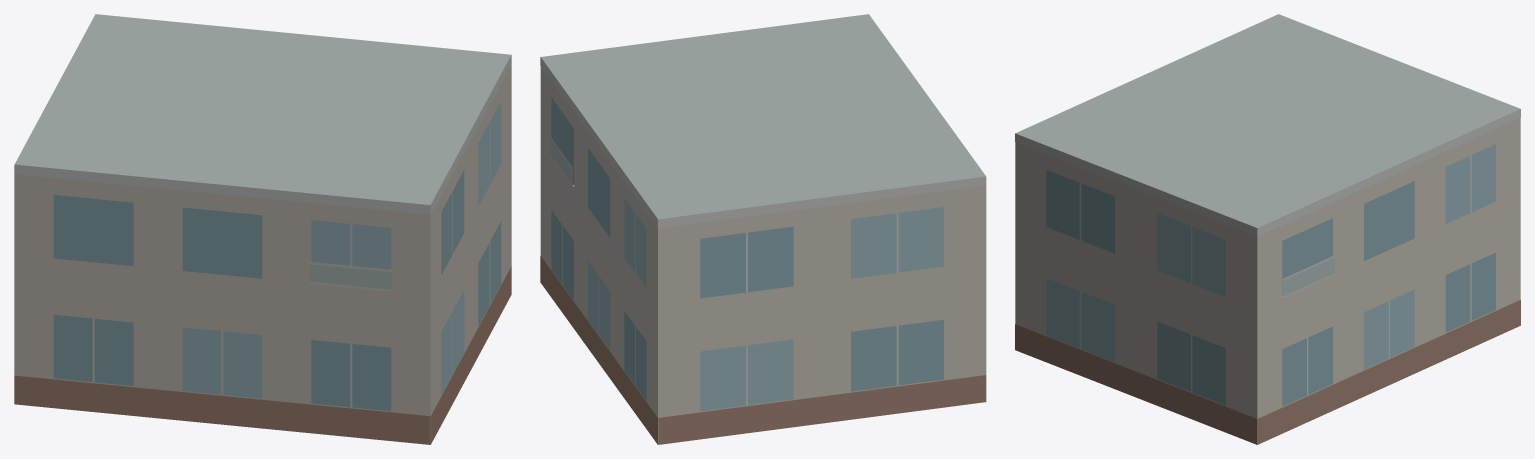
The model's file is survey-upis-32708072.glb.
The picture shows the model from 3 angles, left to right: view 1: azimuth 30°, elevation 25°; view 2: azimuth 150°, elevation 25°; view 3: azimuth 270°, elevation 25°; orthographic projection. The views are drawn at different scales.
Visible parts, largest first — view 1: survey-upis-32708072.tmp; view 2: survey-upis-32708072.tmp; view 3: survey-upis-32708072.tmp.
Part boxes in pixels (left/top/right/bottom): survey-upis-32708072.tmp: left=14, top=14, right=511, bottom=444; survey-upis-32708072.tmp: left=540, top=14, right=986, bottom=444; survey-upis-32708072.tmp: left=1015, top=14, right=1520, bottom=444.
Bounding box in the file's own units: 12.93 × 6.1 × 12.9.
